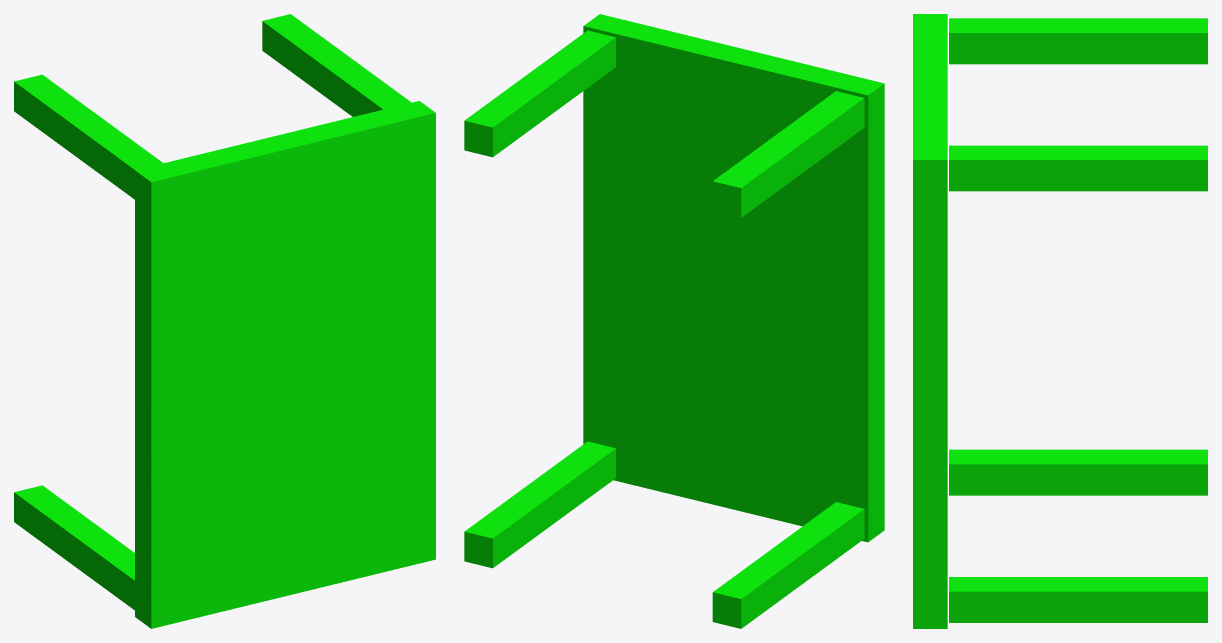
The model's file is Home_robot_green.dae.
The picture shows the model from 3 angles, left to right: view 1: azimuth 30°, elevation 25°; view 2: azimuth 150°, elevation 25°; view 3: azimuth 270°, elevation 25°; orthographic projection. The views are drawn at different scales.
Parts seen in each view (by area): view 1: instance_0 (×4); view 2: instance_0 (×5); view 3: instance_0 (×5).
Part boxes in pixels (x1,y1,x2,y2): instance_0 (×4): (14, 14, 435, 628); instance_0 (×5): (464, 14, 884, 628); instance_0 (×5): (913, 14, 1207, 628).
Bounding box in the file's own units: 47.24 × 40.36 × 70.87.
